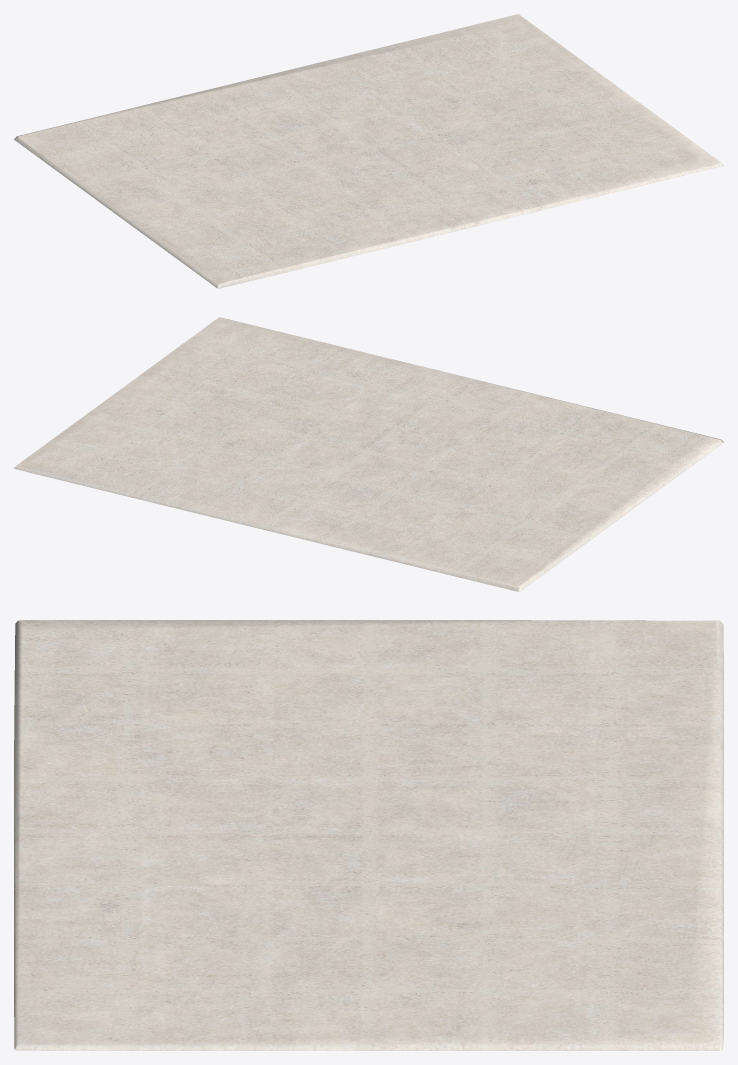
File: geolog_dywan_z_dugim_wosiem_10627713.glb
3 views of the same model, one above another, from view 1: azimuth 30°, elevation 25°; view 2: azimuth 150°, elevation 25°; view 3: azimuth 270°, elevation 25° (orthographic). The views are drawn at different scales.
Parts seen in each view (by area): view 1: geolog_dywan_z_dugim_wosiem_10627713; view 2: geolog_dywan_z_dugim_wosiem_10627713; view 3: geolog_dywan_z_dugim_wosiem_10627713.
Part boxes in pixels (x1=…): geolog_dywan_z_dugim_wosiem_10627713: x1=14, y1=14, x2=723, y2=288; geolog_dywan_z_dugim_wosiem_10627713: x1=14, y1=317, x2=723, y2=591; geolog_dywan_z_dugim_wosiem_10627713: x1=14, y1=620, x2=723, y2=1050.
Size of the model in its own units: 2.33 by 0.0184 by 1.63.
Materials: 1 (1 with a texture image).
